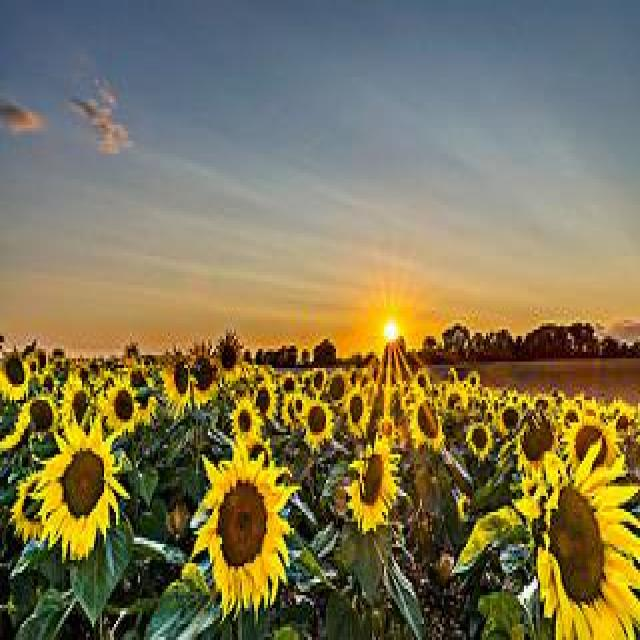sunflower: (522, 441, 640, 640), (196, 454, 296, 618), (36, 422, 124, 560), (348, 434, 402, 539), (565, 419, 617, 480), (155, 342, 193, 422), (183, 338, 219, 408), (210, 324, 246, 386), (101, 381, 141, 435), (408, 397, 444, 451), (0, 347, 30, 402), (0, 403, 28, 458), (228, 397, 260, 445), (300, 398, 332, 446), (345, 387, 369, 432), (465, 421, 493, 459)
